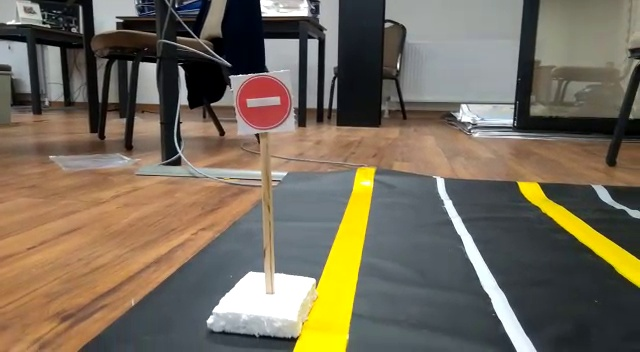girisi_olmayan_yol: (230, 73, 292, 130)
